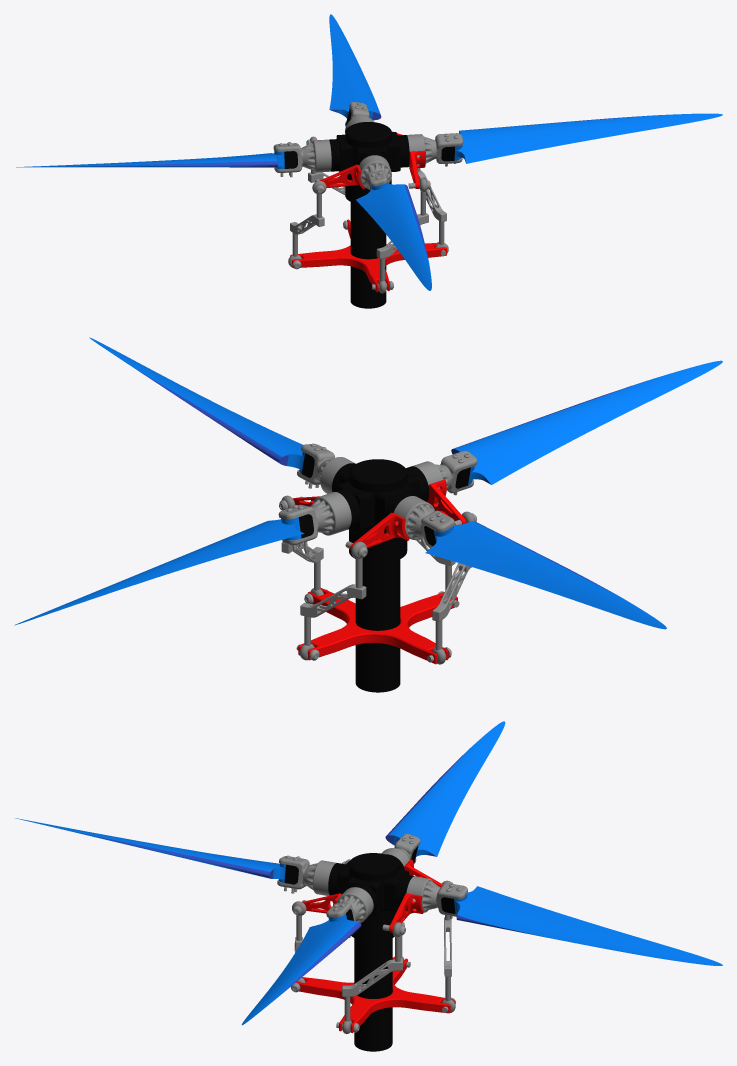
The model's file is AR project.glb.
3 views of the same model, one above another, from view 1: azimuth 30°, elevation 25°; view 2: azimuth 150°, elevation 25°; view 3: azimuth 270°, elevation 25° (orthographic). The views are drawn at different scales.
Visible parts, largest first — view 1: _instance_2, _instance_1, deec32c9-0c0a-4c24-8401-920fe11b1ada, _instance_3, 68421c63-baff-4ccc-8551-354dd37ac1eb, _instance_0, 3534a4eb-e458-4700-b5de-74d027e8f3c4, 664f899e-01dd-4c61-8f0f-e73894887613, f452e5af-bece-4c2a-a167-61346d25b8a9, ac80b2cb-39b6-4b7e-8cbf-3353a798147e, mesh_7_instance_3; view 2: _instance_1, _instance_0, deec32c9-0c0a-4c24-8401-920fe11b1ada, 68421c63-baff-4ccc-8551-354dd37ac1eb, 3534a4eb-e458-4700-b5de-74d027e8f3c4, _instance_3, _instance_2, ed62515d-faf8-4e33-9f74-373e3cf40813, 664f899e-01dd-4c61-8f0f-e73894887613, ac80b2cb-39b6-4b7e-8cbf-3353a798147e, f452e5af-bece-4c2a-a167-61346d25b8a9, mesh_7_instance_2 (+3 smaller); view 3: _instance_3, _instance_0, deec32c9-0c0a-4c24-8401-920fe11b1ada, 68421c63-baff-4ccc-8551-354dd37ac1eb, _instance_2, 3534a4eb-e458-4700-b5de-74d027e8f3c4, _instance_1, ac80b2cb-39b6-4b7e-8cbf-3353a798147e, ed62515d-faf8-4e33-9f74-373e3cf40813, f452e5af-bece-4c2a-a167-61346d25b8a9, mesh_11_instance_0, mesh_7_instance_1 (+1 smaller).
Part boxes in pixels (bbox=[...]): _instance_2: bbox=[441, 113, 722, 163]; _instance_1: bbox=[356, 180, 431, 290]; deec32c9-0c0a-4c24-8401-920fe11b1ada: bbox=[329, 122, 409, 204]; _instance_3: bbox=[329, 14, 381, 124]; 68421c63-baff-4ccc-8551-354dd37ac1eb: bbox=[350, 202, 386, 308]; _instance_0: bbox=[16, 150, 297, 168]; 3534a4eb-e458-4700-b5de-74d027e8f3c4: bbox=[290, 219, 446, 292]; 664f899e-01dd-4c61-8f0f-e73894887613: bbox=[273, 139, 331, 172]; f452e5af-bece-4c2a-a167-61346d25b8a9: bbox=[407, 133, 463, 164]; ac80b2cb-39b6-4b7e-8cbf-3353a798147e: bbox=[359, 155, 391, 189]; mesh_7_instance_3: bbox=[320, 164, 365, 189]; _instance_1: bbox=[451, 360, 722, 488]; _instance_0: bbox=[424, 521, 666, 629]; deec32c9-0c0a-4c24-8401-920fe11b1ada: bbox=[332, 459, 429, 563]; 68421c63-baff-4ccc-8551-354dd37ac1eb: bbox=[355, 559, 400, 692]; 3534a4eb-e458-4700-b5de-74d027e8f3c4: bbox=[298, 588, 457, 664]; _instance_3: bbox=[14, 514, 313, 625]; _instance_2: bbox=[89, 337, 314, 477]; ed62515d-faf8-4e33-9f74-373e3cf40813: bbox=[278, 492, 351, 545]; 664f899e-01dd-4c61-8f0f-e73894887613: bbox=[393, 496, 454, 547]; ac80b2cb-39b6-4b7e-8cbf-3353a798147e: bbox=[412, 451, 477, 493]; f452e5af-bece-4c2a-a167-61346d25b8a9: bbox=[297, 444, 355, 493]; mesh_7_instance_2: bbox=[350, 512, 409, 550]; _instance_3: bbox=[441, 886, 722, 965]; _instance_0: bbox=[385, 721, 505, 862]; deec32c9-0c0a-4c24-8401-920fe11b1ada: bbox=[328, 853, 414, 941]; 68421c63-baff-4ccc-8551-354dd37ac1eb: bbox=[354, 938, 392, 1051]; _instance_2: bbox=[241, 909, 361, 1025]; 3534a4eb-e458-4700-b5de-74d027e8f3c4: bbox=[296, 956, 454, 1033]; _instance_1: bbox=[15, 818, 298, 884]; ac80b2cb-39b6-4b7e-8cbf-3353a798147e: bbox=[277, 856, 336, 895]; ed62515d-faf8-4e33-9f74-373e3cf40813: bbox=[406, 876, 467, 916]; f452e5af-bece-4c2a-a167-61346d25b8a9: bbox=[326, 887, 373, 923]; mesh_11_instance_0: bbox=[342, 959, 402, 996]; mesh_7_instance_1: bbox=[389, 893, 423, 932].
Bounding box in the file's own units: 3.78 × 1.05 × 3.72.
